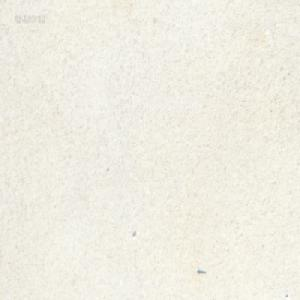Nail: (196, 266, 206, 273)
